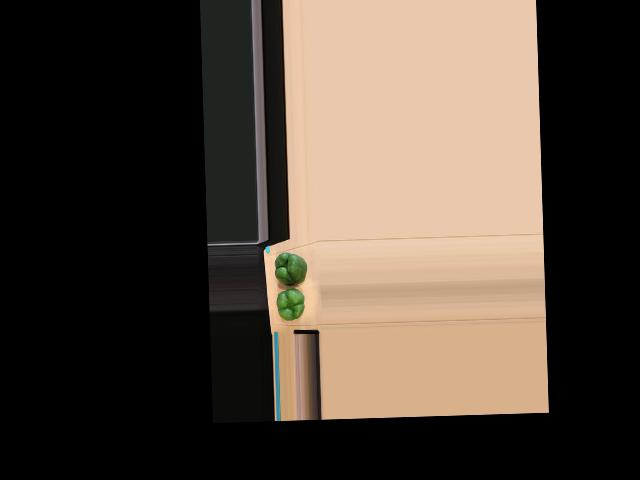bell_pepper: (275, 287, 309, 320)
